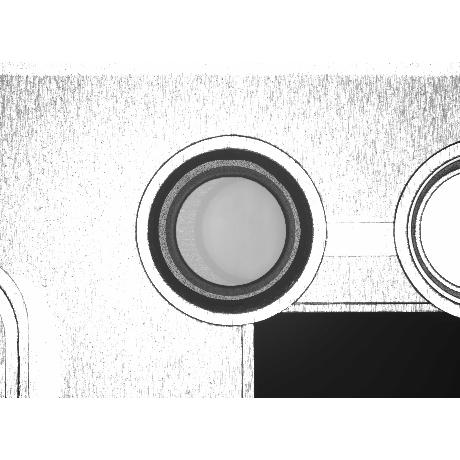Hole: (148, 149, 314, 314)
Hole2: (159, 160, 301, 300)
Hole3: (167, 166, 295, 296)
Hole4: (176, 175, 286, 286)
